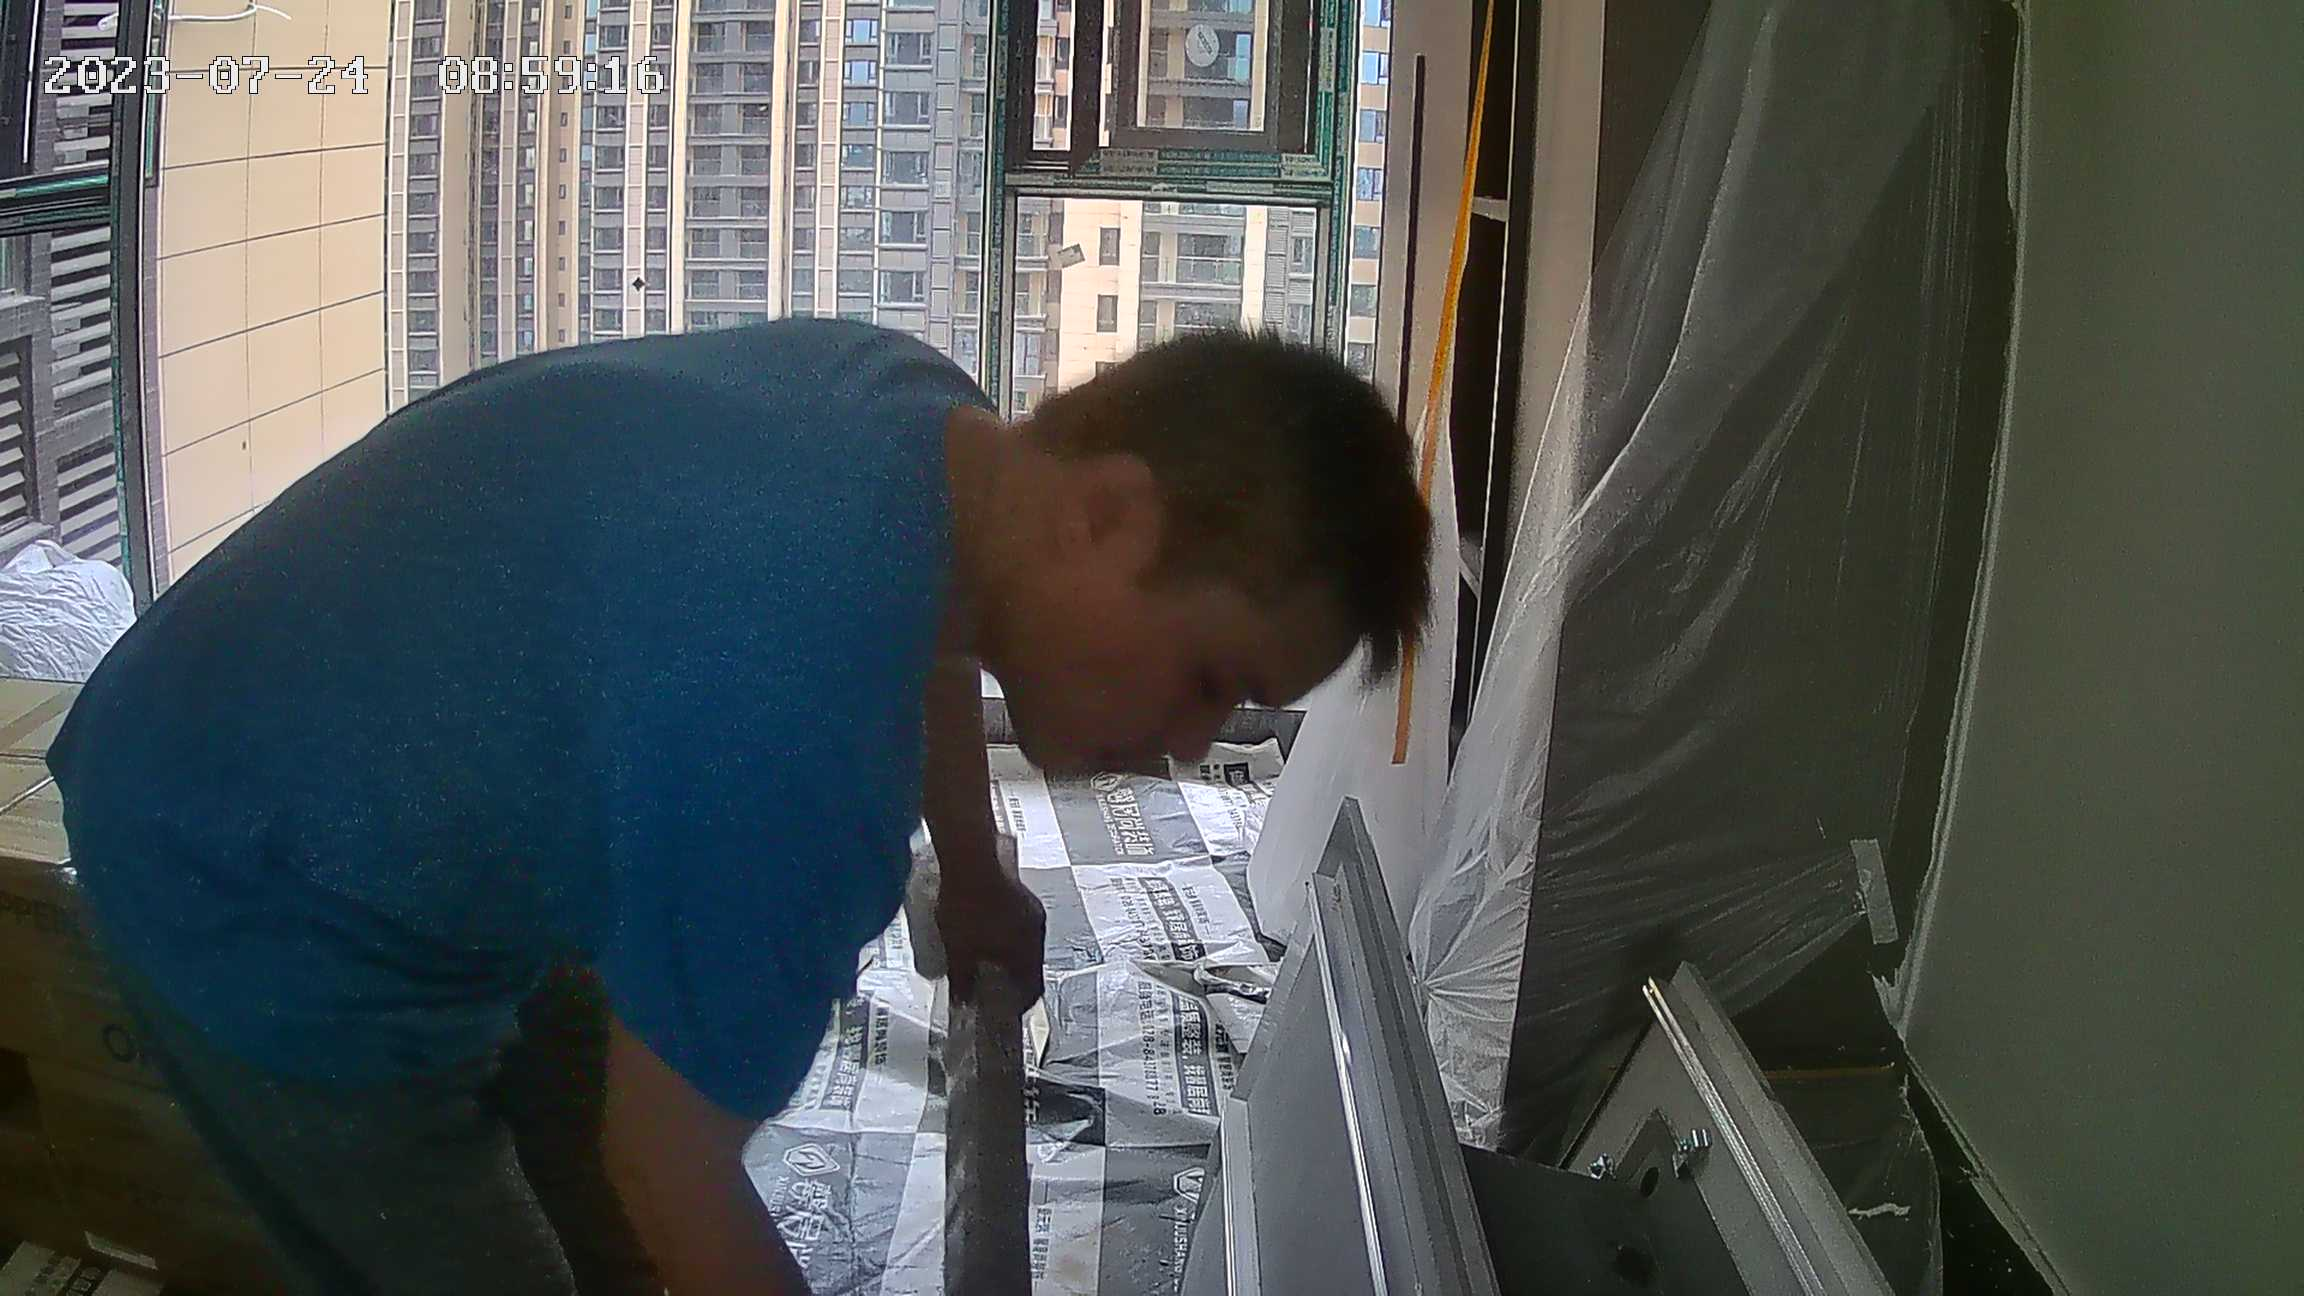people: (67, 316, 1436, 1296)
window: (3, 1, 1376, 695)
